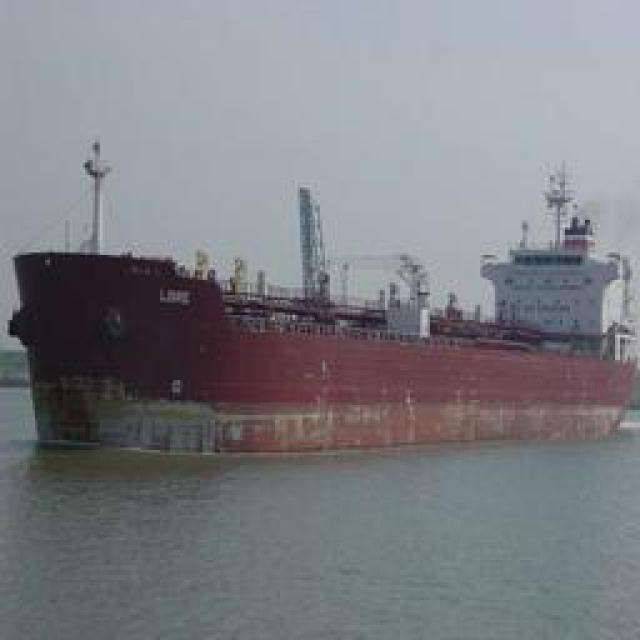Ship: (13, 175, 638, 445)
